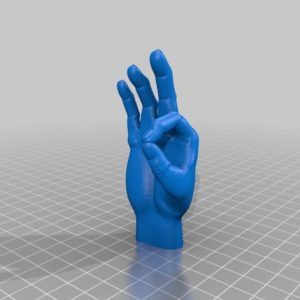finger: (146, 46, 189, 114), (135, 112, 210, 146), (126, 60, 159, 117), (113, 78, 143, 126)
